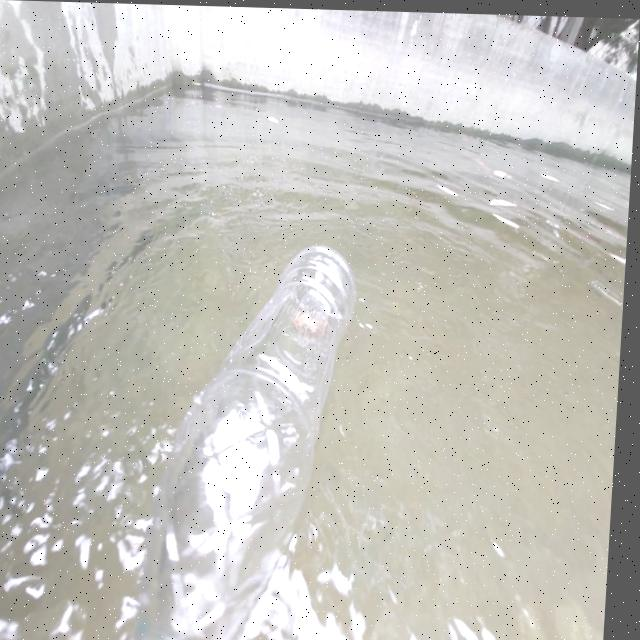waterbottle: (140, 228, 387, 640)
